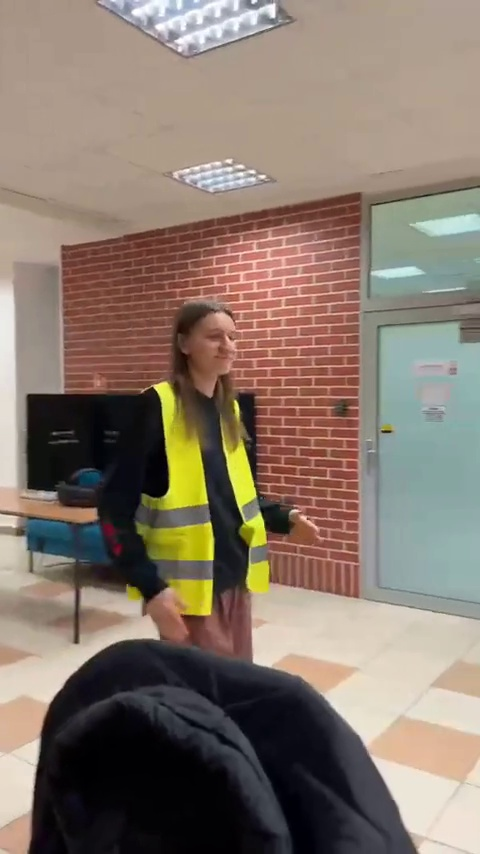vest: (114, 293, 289, 658)
